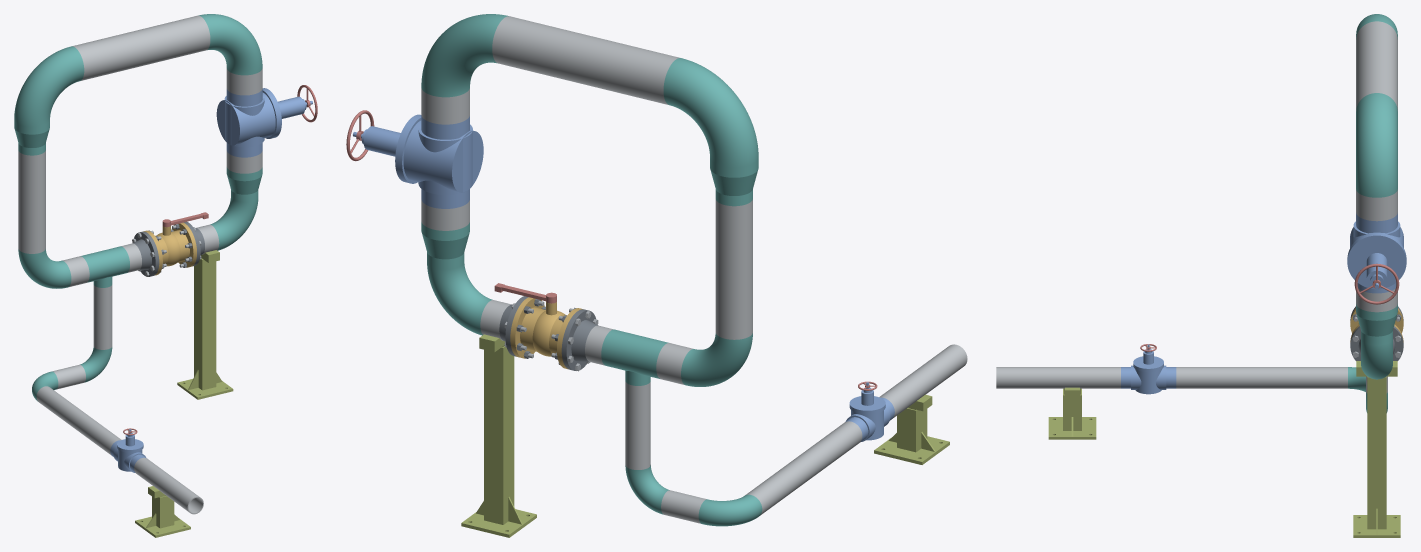
File: ax_steam_line_loop.glb
The picture shows the model from 3 angles, left to right: view 1: azimuth 30°, elevation 25°; view 2: azimuth 150°, elevation 25°; view 3: azimuth 270°, elevation 25°; orthographic projection. The views are drawn at different scales.
Visible parts, largest first — view 1: 8" pipe, top run, 890 long, pipe support SP-101, tall, 8" gate valve body GV-101, 8" elbow top left, 6" pipe, left riser, 664 long, 8" elbow top right, 4" pipe, inlet to the needle valve, 902 long, 4" pipe, inlet end, 654 long, 6" ball valve body BV-101, 6" elbow bottom left, pipe support SP-101, short, 6" x 4" reducing tee (+14 smaller); view 2: 8" pipe, top run, 890 long, pipe support SP-101, tall, 8" gate valve body GV-101, 8" elbow top left, 6" pipe, left riser, 664 long, 8" elbow top right, 4" pipe, inlet to the needle valve, 902 long, 6" ball valve body BV-101, 6" elbow bottom left, pipe support SP-101, short, 6" x 4" reducing tee, 6" elbow bottom right (+14 smaller); view 3: 8" elbow top right, pipe support SP-101, tall, 4" pipe, inlet to the needle valve, 902 long, 8" pipe, top run, 890 long, 4" pipe, inlet end, 654 long, 8" gate valve bonnet and stem, pipe support SP-101, short, 4" needle valve body NV-101, reducer right leg, 8" gate valve body GV-101, 6" elbow bottom right, 8" pipe, right leg above the gate valve, 136 long (+3 smaller).
Boxes of the visible parts, x1=… form: 8" pipe, top run, 890 long: x1=72, y1=15, x2=210, y2=80; pipe support SP-101, tall: x1=177, y1=250, x2=233, y2=399; 8" gate valve body GV-101: x1=216, y1=88, x2=279, y2=157; 8" elbow top left: x1=14, y1=46, x2=84, y2=127; 6" pipe, left riser, 664 long: x1=18, y1=150, x2=45, y2=253; 8" elbow top right: x1=198, y1=14, x2=262, y2=75; 4" pipe, inlet to the needle valve, 902 long: x1=36, y1=386, x2=121, y2=455; 4" pipe, inlet end, 654 long: x1=134, y1=457, x2=203, y2=514; 6" ball valve body BV-101: x1=143, y1=222, x2=196, y2=275; 6" elbow bottom left: x1=18, y1=249, x2=71, y2=288; pipe support SP-101, short: x1=135, y1=486, x2=190, y2=537; 6" x 4" reducing tee: x1=80, y1=246, x2=129, y2=287; 8" pipe, top run, 890 long: x1=492, y1=16, x2=679, y2=104; pipe support SP-101, tall: x1=461, y1=334, x2=536, y2=537; 8" gate valve body GV-101: x1=398, y1=115, x2=483, y2=208; 8" elbow top left: x1=663, y1=58, x2=758, y2=167; 6" pipe, left riser, 664 long: x1=715, y1=199, x2=752, y2=339; 8" elbow top right: x1=421, y1=14, x2=508, y2=97; 4" pipe, inlet to the needle valve, 902 long: x1=745, y1=421, x2=862, y2=515; 6" ball valve body BV-101: x1=510, y1=297, x2=582, y2=369; 6" elbow bottom left: x1=681, y1=333, x2=752, y2=386; pipe support SP-101, short: x1=874, y1=394, x2=949, y2=464; 6" x 4" reducing tee: x1=601, y1=329, x2=668, y2=385; 6" elbow bottom right: x1=427, y1=262, x2=492, y2=335; 8" elbow top right: x1=1356, y1=93, x2=1397, y2=197; pipe support SP-101, tall: x1=1353, y1=361, x2=1400, y2=537; 4" pipe, inlet to the needle valve, 902 long: x1=1176, y1=367, x2=1347, y2=388; 8" pipe, top run, 890 long: x1=1356, y1=21, x2=1397, y2=110; 4" pipe, inlet end, 654 long: x1=996, y1=367, x2=1120, y2=388; 8" gate valve bonnet and stem: x1=1347, y1=234, x2=1406, y2=289; pipe support SP-101, short: x1=1048, y1=387, x2=1096, y2=439; 4" needle valve body NV-101: x1=1121, y1=365, x2=1176, y2=394; reducer right leg: x1=1356, y1=304, x2=1397, y2=345; 8" gate valve body GV-101: x1=1347, y1=213, x2=1406, y2=293; 6" elbow bottom right: x1=1361, y1=339, x2=1392, y2=379; 8" pipe, right leg above the gate valve, 136 long: x1=1356, y1=189, x2=1397, y2=221.
Bounding box in the file's own units: 2102 × 2510 × 2156.
